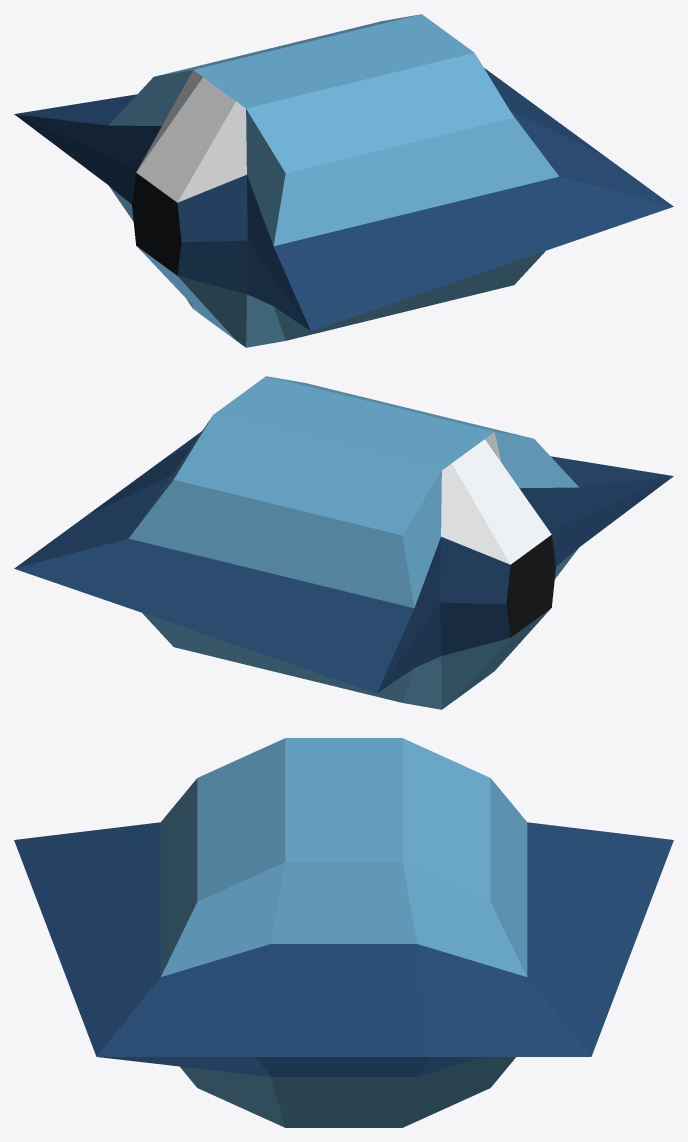
Rendered from enemy_shooting_ship.gltf.
3 renders of one model, top to bottom at view 1: azimuth 30°, elevation 25°; view 2: azimuth 150°, elevation 25°; view 3: azimuth 270°, elevation 25°, orthographic. The views are drawn at different scales.
Visible parts, largest first — view 1: shooting_enemy_ship; view 2: shooting_enemy_ship; view 3: shooting_enemy_ship.
Boxes of the visible parts, bbox=[...] form: shooting_enemy_ship: bbox=[14, 14, 673, 347]; shooting_enemy_ship: bbox=[14, 376, 673, 709]; shooting_enemy_ship: bbox=[14, 738, 673, 1127].
Size of the model in its own units: 3.55 by 2 by 4.5.
